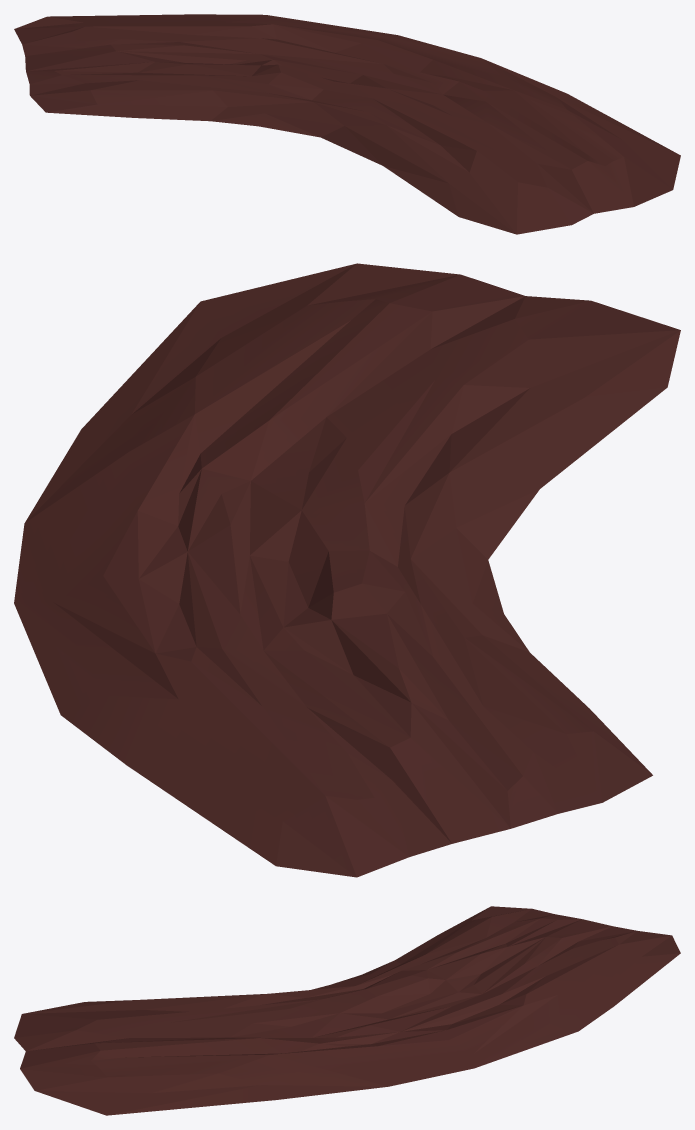
The model's file is entity79526.glb.
3 renders of one model, top to bottom at view 1: azimuth 30°, elevation 25°; view 2: azimuth 150°, elevation 25°; view 3: azimuth 270°, elevation 25°, orthographic. The views are drawn at different scales.
Parts seen in each view (by area): view 1: node_SM_Env_DirtRoad_Corner_01 (3); view 2: node_SM_Env_DirtRoad_Corner_01 (3); view 3: node_SM_Env_DirtRoad_Corner_01 (3).
Boxes of the visible parts, bbox=[...] form: node_SM_Env_DirtRoad_Corner_01 (3): bbox=[14, 14, 680, 234]; node_SM_Env_DirtRoad_Corner_01 (3): bbox=[14, 263, 680, 877]; node_SM_Env_DirtRoad_Corner_01 (3): bbox=[14, 906, 680, 1115].
Bounding box in the file's own units: 10.53 × 0.6171 × 14.43.
Materials: 1 (1 with a texture image).
